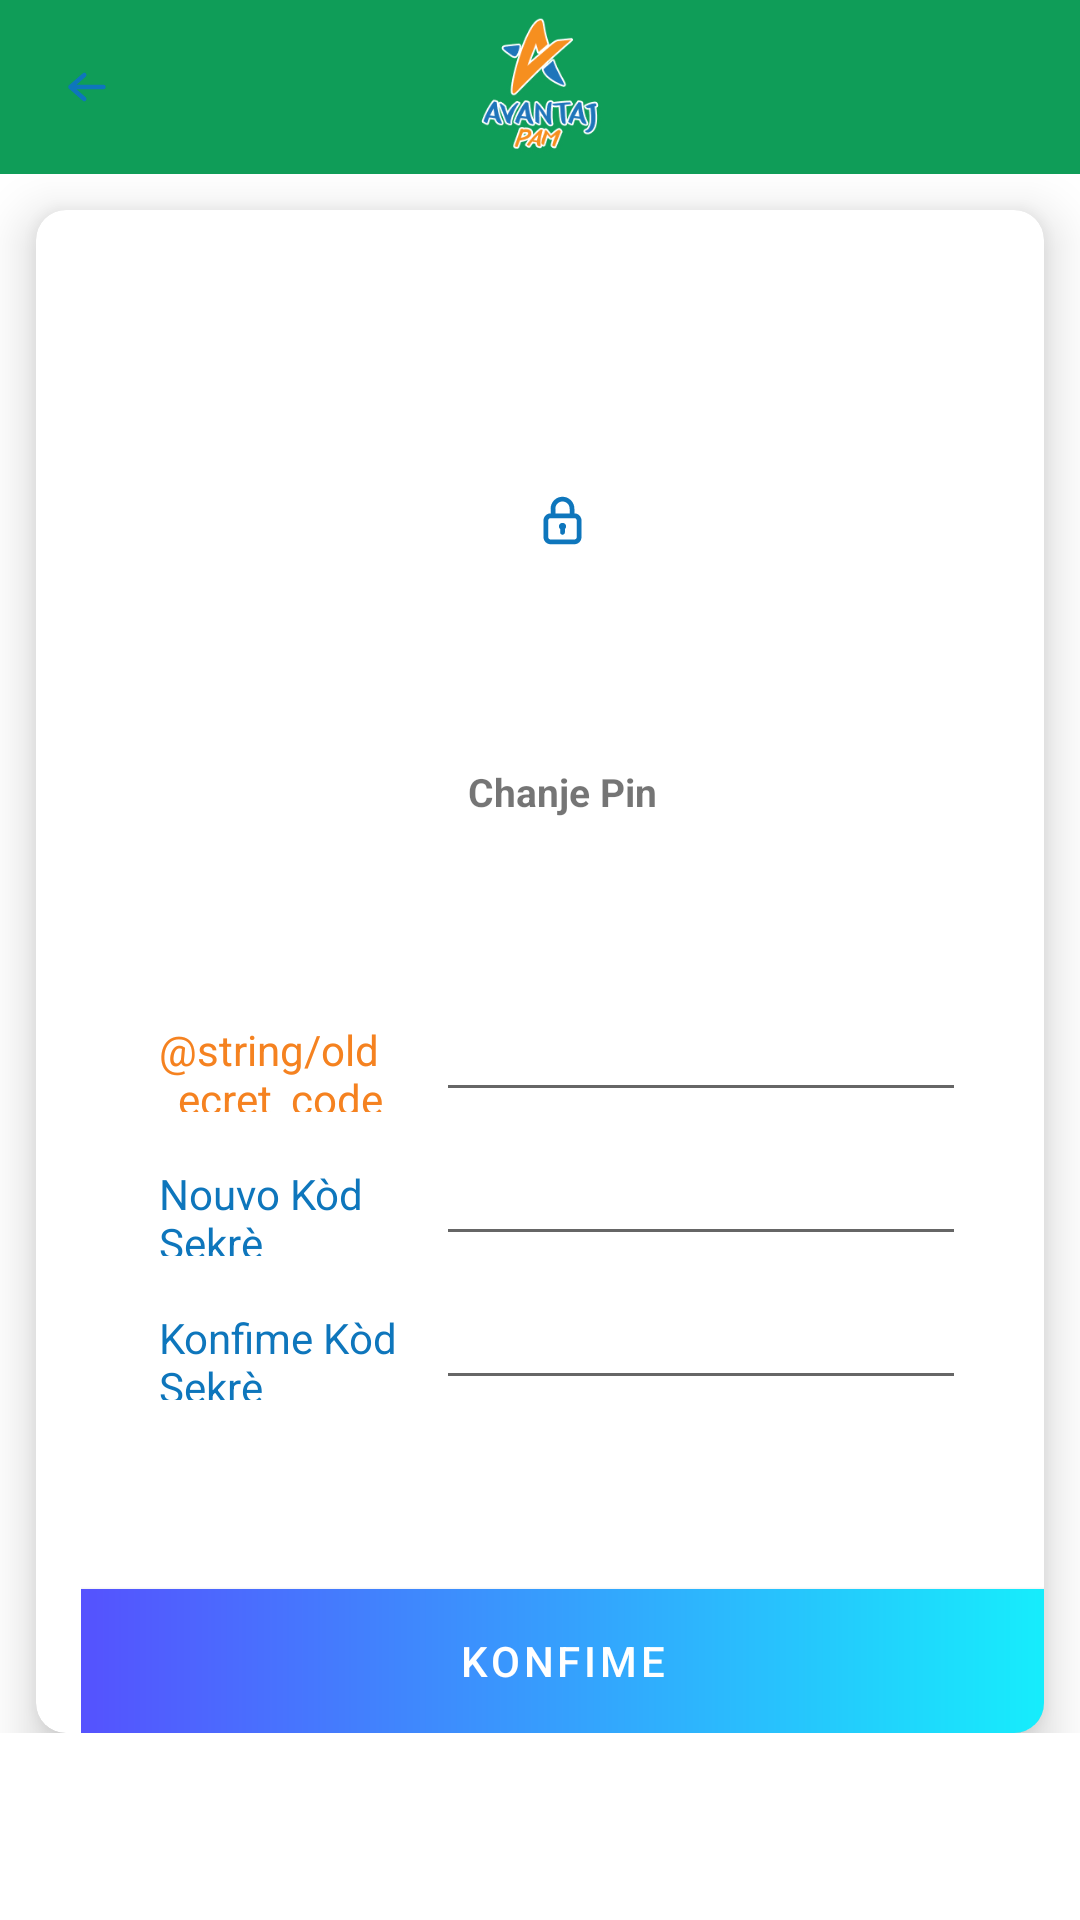

Point at icon controls on the screen. Image size 1080*1920, points as (x,y).
lock: (562,520)
